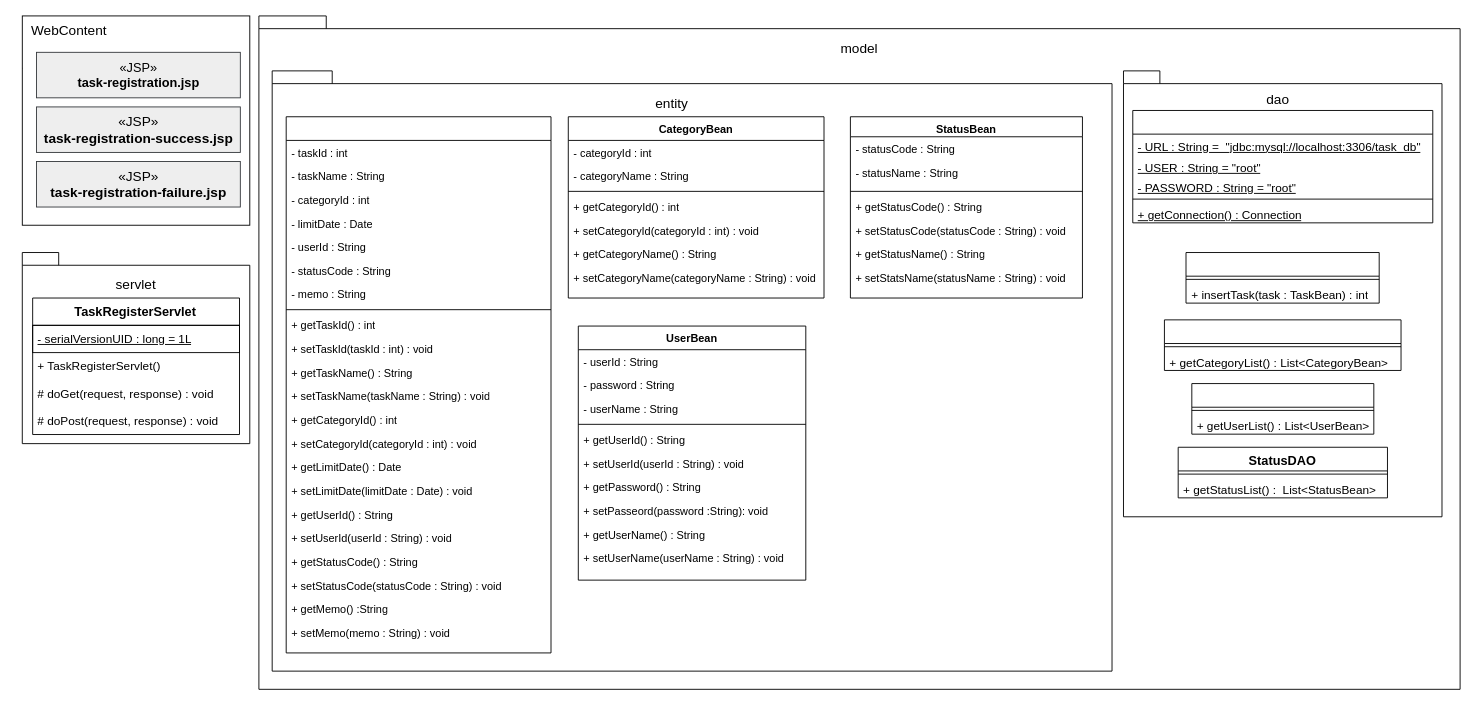
Image size: 1476x705. Some labels were removed from this diagram. The box of each missing label's shape, as (x1, y1, x2, y2) in pixels:
CategoryDAO: (1164, 319, 1401, 370)
ConnectionManager: (1132, 110, 1433, 223)
TaskBean: (285, 116, 551, 653)
TaskDAO: (1185, 252, 1379, 303)
UserDAO: (1191, 383, 1374, 434)
